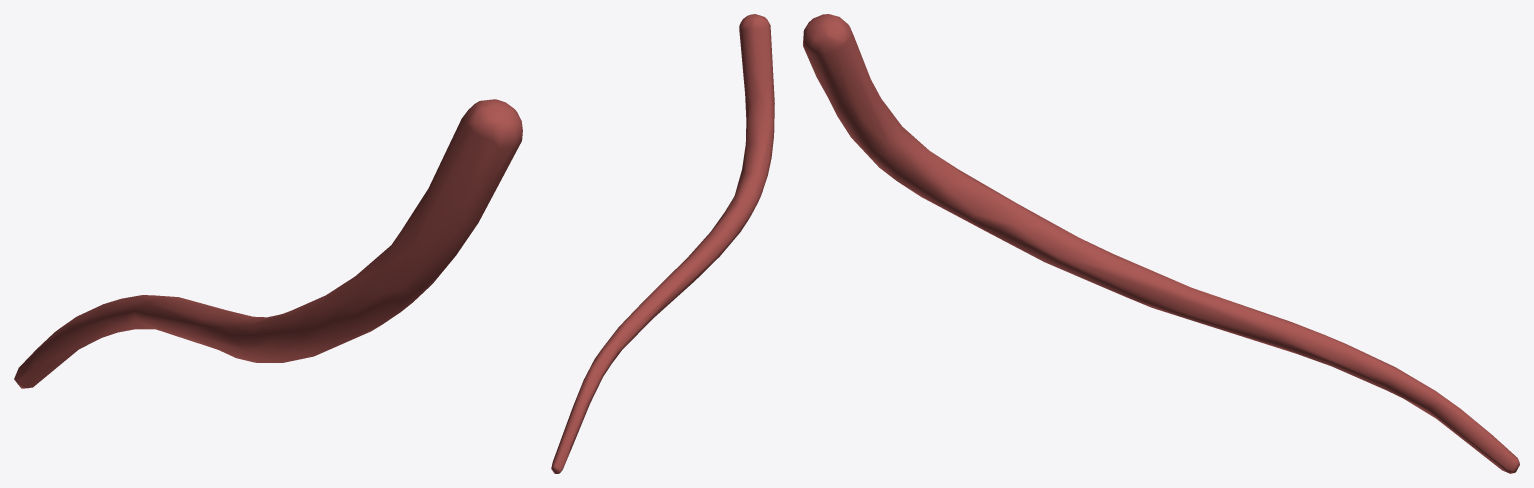
The model's file is FMA18810.glb.
The picture shows the model from 3 angles, left to right: view 1: azimuth 30°, elevation 25°; view 2: azimuth 150°, elevation 25°; view 3: azimuth 270°, elevation 25°; orthographic projection. The views are drawn at different scales.
Visible parts, largest first — view 1: FMA18810; view 2: FMA18810; view 3: FMA18810.
Boxes of the visible parts, <box> form: FMA18810: <box>14,99,522,388</box>; FMA18810: <box>551,14,774,473</box>; FMA18810: <box>803,14,1519,473</box>.
Size of the model in its own units: 0.0147 by 0.0654 by 0.0904.
